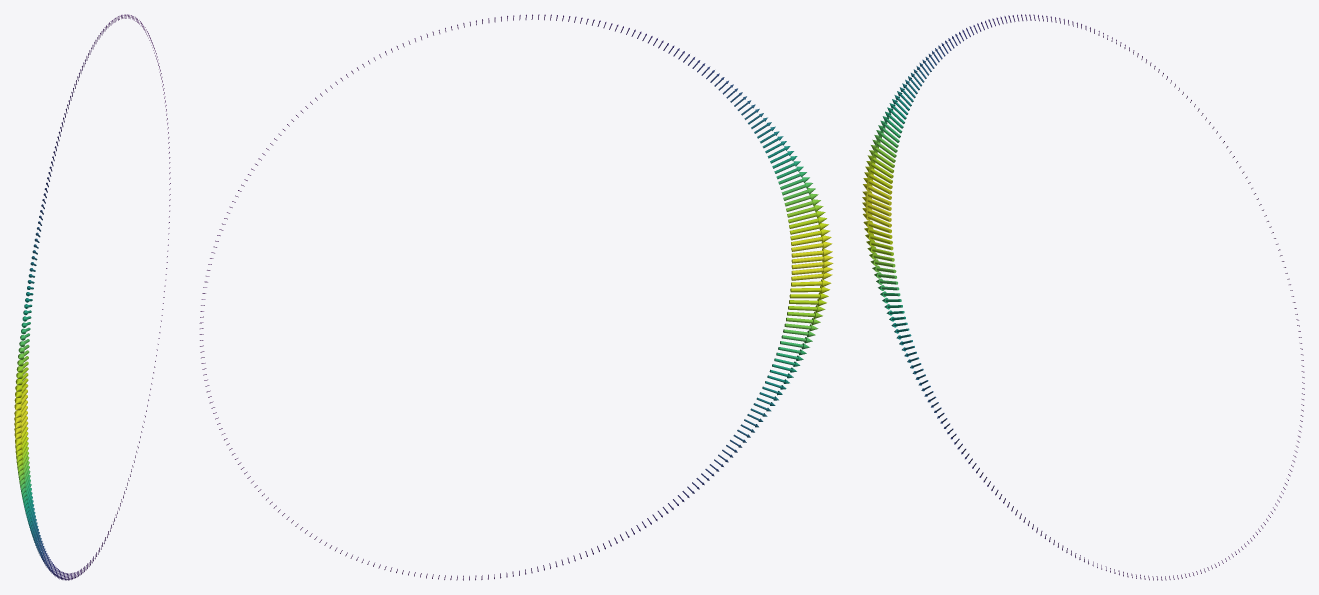
File: coil_2_forces.gltf
3 renders of one model, left to right at view 1: azimuth 30°, elevation 25°; view 2: azimuth 150°, elevation 25°; view 3: azimuth 270°, elevation 25°, orthographic. The views are drawn at different scales.
Visible parts, largest first — view 1: Renderer Node; view 2: Renderer Node; view 3: Renderer Node.
Part boxes in pixels (x1,y1,x2,y2): Renderer Node: (14,14,170,580); Renderer Node: (199,14,833,580); Renderer Node: (862,14,1304,580).
Size of the model in its own units: 0.4567 by 0.612 by 0.4573.
1 material, 1 textured.
